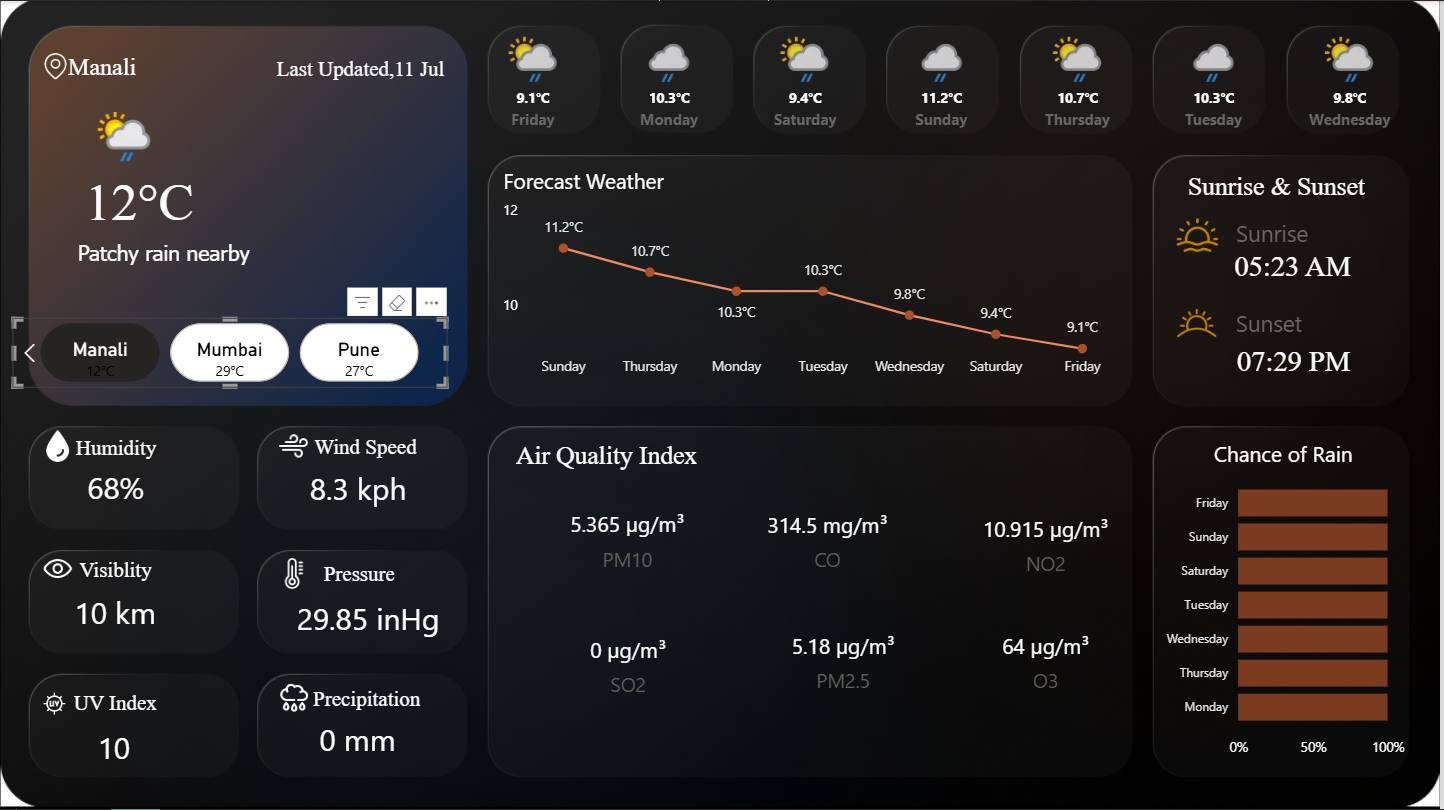

Layout of this report page (visuals, bound fields, positions):
{"tool":"powerbi","page":{"name":"Page 1","canvas":[1280,720],"ordinal":0},"visuals":[{"type":"advancedSlicerVisual","fields":{"Values":["Location.location.name"]},"box":[11,283.4,386.5,62.6],"z":0},{"type":"shape","box":[66.3,120.2,314.1,122.7],"z":1000},{"type":"shape","box":[66.3,207.4,250.3,35.6],"z":2000},{"type":"shape","box":[57.7,41.7,106.7,38],"z":3000},{"type":"shape","box":[223.3,44.2,174.2,35.6],"z":4000},{"type":"image","box":[23.3,42.9,52.8,33.1],"z":5000},{"type":"cardVisual","fields":{"Data":["Min(Current.current.condition.icon)"]},"box":[46.6,62.6,117.8,120.2],"z":6000},{"type":"image","box":[18.4,487.1,65,39.3],"z":7000},{"type":"shape","box":[20.9,489.6,163.2,35.6],"z":8000},{"type":"shape","box":[34.4,382.8,137.4,30.7],"z":9000},{"type":"shape","box":[63.8,609.8,98.2,31.9],"z":10000},{"type":"shape","box":[238,380.4,174.2,35.6],"z":11000},{"type":"image","box":[18.4,377.9,65,39.3],"z":12000},{"type":"image","box":[16,611,66.3,30.7],"z":13000},{"type":"shape","box":[255.2,493.3,127.6,35.6],"z":14000},{"type":"shape","box":[268.7,604.9,114.1,35.6],"z":15000},{"type":"image","box":[219.6,379.1,82.2,36.8],"z":16000},{"type":"image","box":[211,601.2,100.6,40.5],"z":17000},{"type":"image","box":[233.1,492,56.4,36.8],"z":18000},{"type":"card","fields":{"Values":["Measure.Humidity"]},"box":[52.7,416.3,101.6,37.6],"z":19000},{"type":"card","fields":{"Values":["Measure.Windspeed"]},"box":[252.8,408.6,132.5,54],"z":20000},{"type":"card","fields":{"Values":["Measure.Visiblity"]},"box":[51.4,525.4,102.8,41.4],"z":21000},{"type":"card","fields":{"Values":["Measure.Pressure"]},"box":[258.3,527.9,139.2,47.6],"z":22000},{"type":"card","fields":{"Values":["Sum(Current.current.uv)"]},"box":[45.1,640.8,111.6,51.4],"z":23000},{"type":"card","fields":{"Values":["Measure.prec"]},"box":[258.3,634.5,120.4,48.9],"z":24000},{"type":"advancedSlicerVisual","fields":{"Values":["Forecast_day.Day_Name"]},"box":[412.5,20.1,853.9,100.3],"z":25000},{"type":"lineChart","title":"Forecast Weather","fields":{"Y":["Sum(Forecast_day.forecast.forecastday.day.avgtemp_c)"],"Category":["Forecast_day.Day_Name"]},"box":[441.7,148.5,555.8,196.3],"z":26000},{"type":"shape","box":[1033.1,152.1,202.5,30.7],"z":27000},{"type":"shape","box":[1093.3,212.3,152.1,52.8],"z":28000},{"type":"shape","box":[1095.7,296.9,152.1,52.8],"z":29000},{"type":"shape","box":[1095.9,186.5,98.2,42.9],"z":30000},{"type":"shape","box":[1095.9,267.5,100.6,39.3],"z":31000},{"type":"image","box":[1028.2,260.1,72.4,56.4],"z":32000},{"type":"image","box":[1016,186.5,96.9,46.6],"z":33000},{"type":"hundredPercentStackedBarChart","title":"Chance of Rain","fields":{"Y":["Sum(Forecast_day.forecast.forecastday.day.daily_chance_of_rain)"],"Category":["Forecast_day.Day_Name"]},"box":[1028.2,391.4,225.8,292],"z":34000},{"type":"shape","box":[438,391.4,202.5,30.7],"z":35000},{"type":"card","fields":{"Values":["Measure.PM10"]},"box":[476.1,449.1,164.4,62.6],"z":36000},{"type":"card","fields":{"Values":["Measure.SO2"]},"box":[492,557.1,132.5,69.9],"z":37000},{"type":"card","fields":{"Values":["Measure.NO2"]},"box":[863.8,449.1,132.5,69.9],"z":38000},{"type":"card","fields":{"Values":["Measure.CO"]},"box":[669.9,445.4,131.3,69.9],"z":39000},{"type":"card","fields":{"Values":["Measure.O3"]},"box":[863.8,553.4,132.5,69.9],"z":40000},{"type":"card","fields":{"Values":["Measure.PM2.5"]},"box":[683.4,553.4,132.5,69.9],"z":41000}]}

Visuals, with their boxes in screenshot pixels (x1, y1, x2, y2), scaled from the page's 1280x720 canvas onto the 1444x810 screenshot:
advancedSlicerVisual - Location.location.name: BBox(12, 319, 448, 389)
shape: BBox(75, 135, 429, 273)
shape: BBox(75, 233, 357, 273)
shape: BBox(65, 47, 185, 90)
shape: BBox(252, 50, 448, 90)
image: BBox(26, 48, 86, 86)
cardVisual - Min(Current.current.condition.icon): BBox(53, 70, 185, 206)
image: BBox(21, 548, 94, 592)
shape: BBox(24, 551, 208, 591)
shape: BBox(39, 431, 194, 465)
shape: BBox(72, 686, 183, 722)
shape: BBox(268, 428, 465, 468)
image: BBox(21, 425, 94, 469)
image: BBox(18, 687, 93, 722)
shape: BBox(288, 555, 432, 595)
shape: BBox(303, 681, 432, 721)
image: BBox(248, 426, 340, 468)
image: BBox(238, 676, 352, 722)
image: BBox(263, 554, 327, 595)
card - Measure.Humidity: BBox(59, 468, 174, 511)
card - Measure.Windspeed: BBox(285, 460, 435, 520)
card - Measure.Visiblity: BBox(58, 591, 174, 638)
card - Measure.Pressure: BBox(291, 594, 448, 647)
card - Sum(Current.current.uv): BBox(51, 721, 177, 779)
card - Measure.prec: BBox(291, 714, 427, 769)
advancedSlicerVisual - Forecast_day.Day_Name: BBox(465, 23, 1429, 135)
"Forecast Weather" lineChart: BBox(498, 167, 1125, 388)
shape: BBox(1165, 171, 1394, 206)
shape: BBox(1233, 239, 1405, 298)
shape: BBox(1236, 334, 1408, 393)
shape: BBox(1236, 210, 1347, 258)
shape: BBox(1236, 301, 1350, 345)
image: BBox(1160, 293, 1242, 356)
image: BBox(1146, 210, 1255, 262)
"Chance of Rain" hundredPercentStackedBarChart: BBox(1160, 440, 1415, 769)
shape: BBox(494, 440, 723, 475)
card - Measure.PM10: BBox(537, 505, 723, 576)
card - Measure.SO2: BBox(555, 627, 705, 705)
card - Measure.NO2: BBox(974, 505, 1124, 584)
card - Measure.CO: BBox(756, 501, 904, 580)
card - Measure.O3: BBox(974, 623, 1124, 701)
card - Measure.PM2.5: BBox(771, 623, 920, 701)
